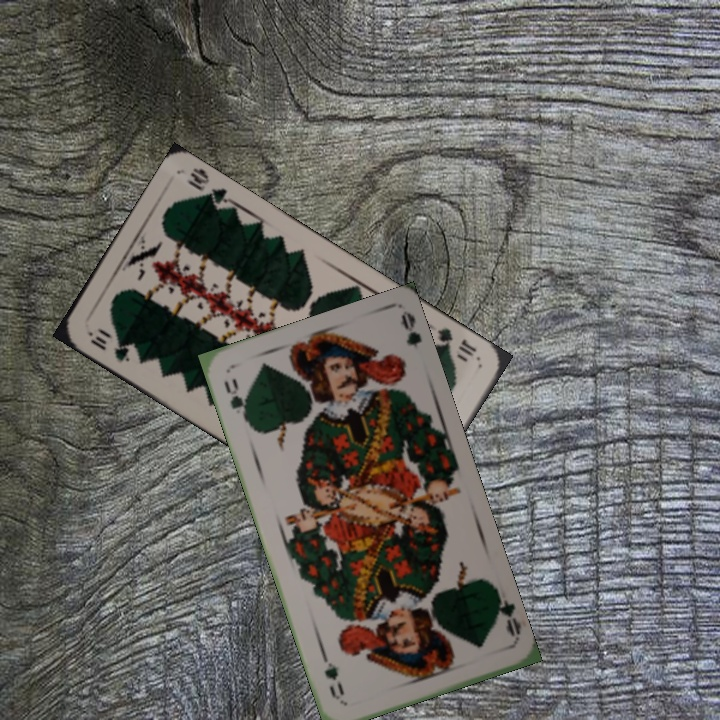G10: (84, 327, 133, 365), (432, 323, 479, 359)
GO: (491, 585, 523, 642), (219, 374, 253, 426)
